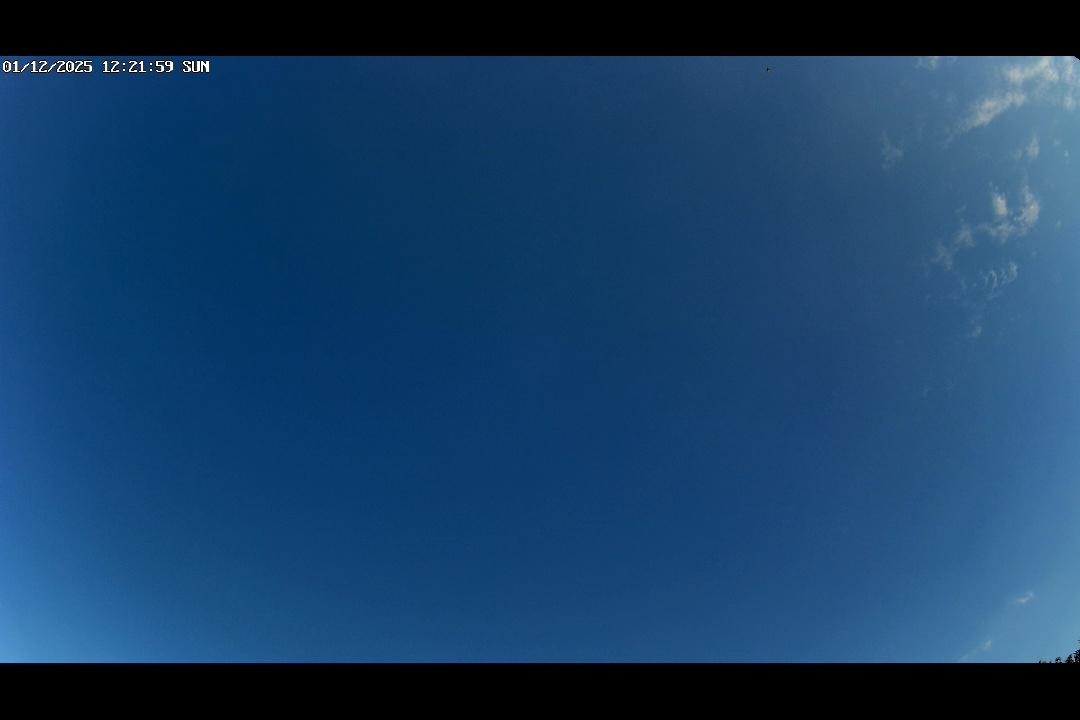WildLife: (759, 65, 772, 74)
